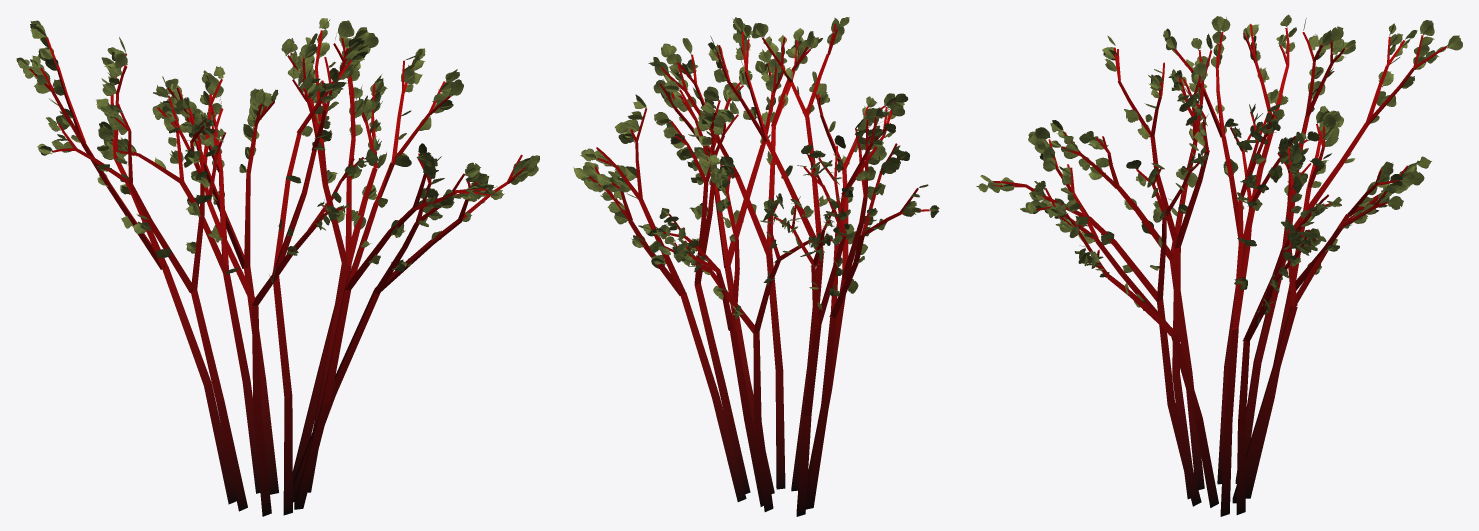
Rendered from hazel_coppice_v02_LOD1.fbx.
3 renders of one model, left to right at view 1: azimuth 30°, elevation 25°; view 2: azimuth 150°, elevation 25°; view 3: azimuth 270°, elevation 25°, orthographic. The views are drawn at different scales.
Parts seen in each view (by area): view 1: hazel_coppice_v02_LOD1; view 2: hazel_coppice_v02_LOD1; view 3: hazel_coppice_v02_LOD1.
Part boxes in pixels (left/top/right/bottom): hazel_coppice_v02_LOD1: left=16, top=18, right=539, bottom=516; hazel_coppice_v02_LOD1: left=573, top=17, right=939, bottom=516; hazel_coppice_v02_LOD1: left=976, top=14, right=1462, bottom=516.
Bounding box in the file's own units: 417 × 473 × 455.
